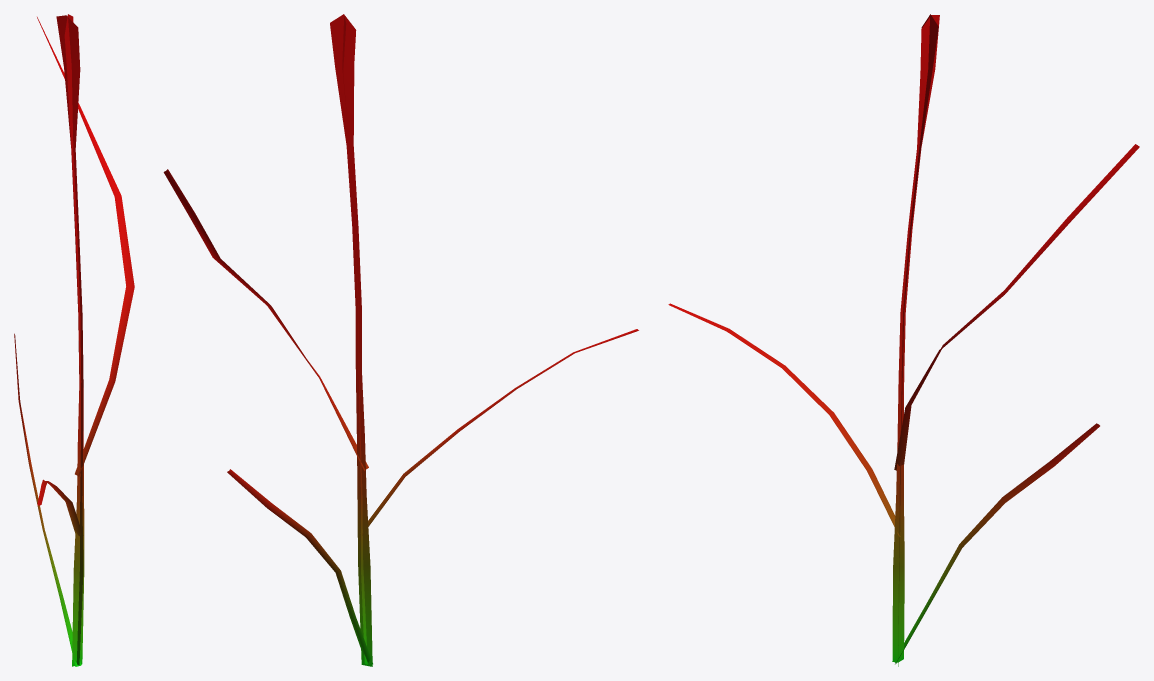
The model's file is Tundra Grass_LOD1_Var15_wk2oaeyqx.fbx.
The picture shows the model from 3 angles, left to right: view 1: azimuth 30°, elevation 25°; view 2: azimuth 150°, elevation 25°; view 3: azimuth 270°, elevation 25°; orthographic projection. The views are drawn at different scales.
Visible parts, largest first — view 1: _pql4_Var15_LOD1; view 2: _pql4_Var15_LOD1; view 3: _pql4_Var15_LOD1.
Boxes of the visible parts, x1,y1,x2,y2 form: _pql4_Var15_LOD1: (14, 14, 134, 666); _pql4_Var15_LOD1: (163, 14, 638, 666); _pql4_Var15_LOD1: (668, 14, 1139, 666).
Size of the model in its own units: 10.48 by 25.81 by 16.89.
